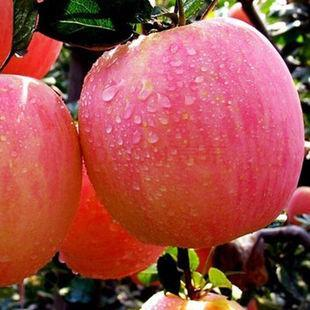apple: (67, 15, 305, 254), (0, 81, 82, 293)
